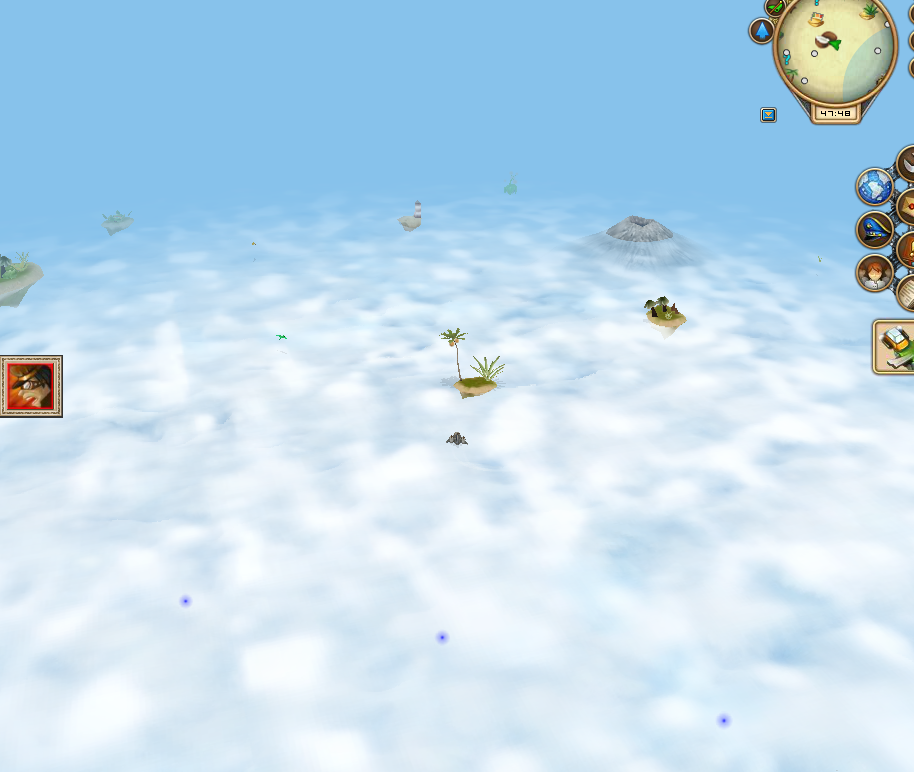palm: (440, 325, 507, 402)
